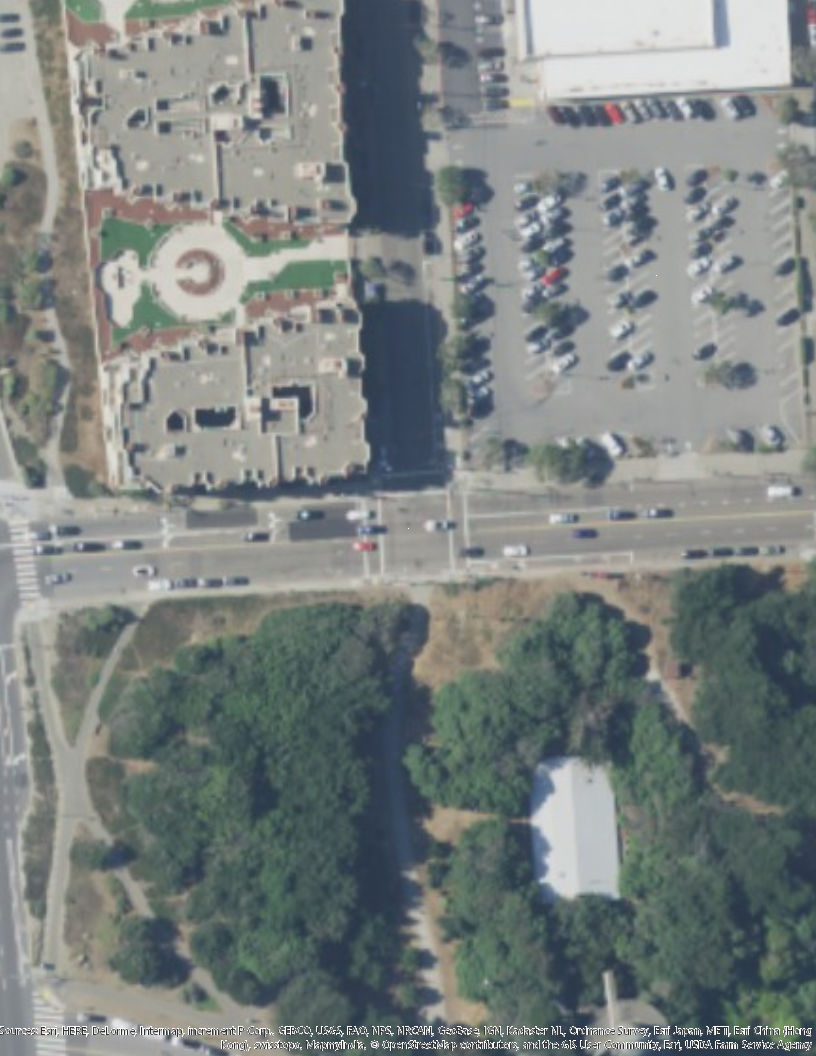zebracross: (3, 517, 43, 602)
